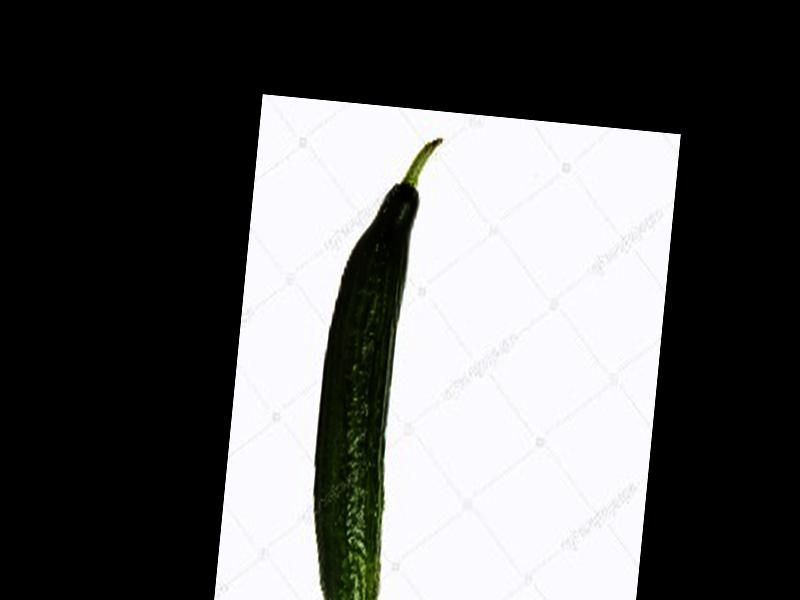Cucumber: (300, 126, 442, 600)
